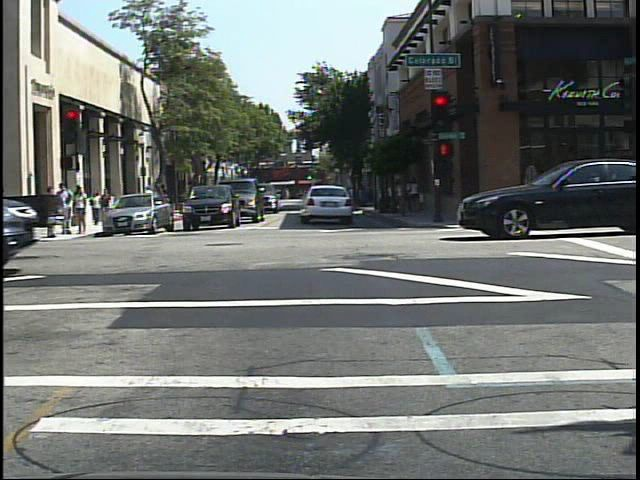person: (154, 180, 172, 216), (140, 183, 159, 214), (89, 189, 103, 228)
